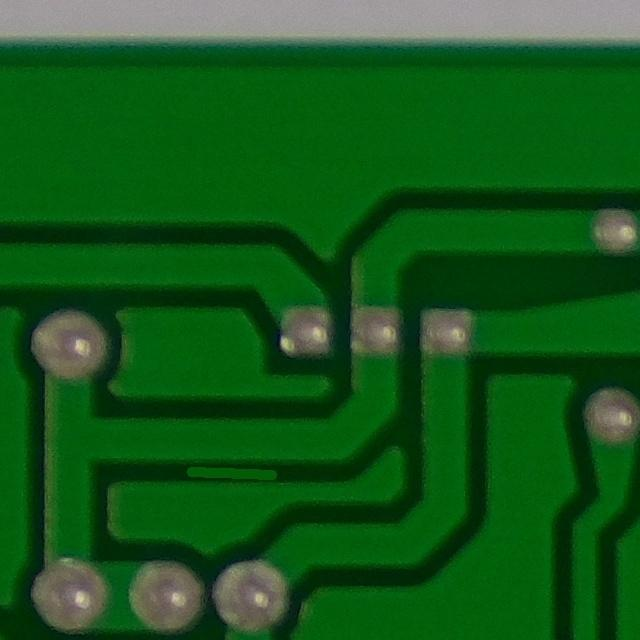spurious_copper: (180, 448, 289, 500)
